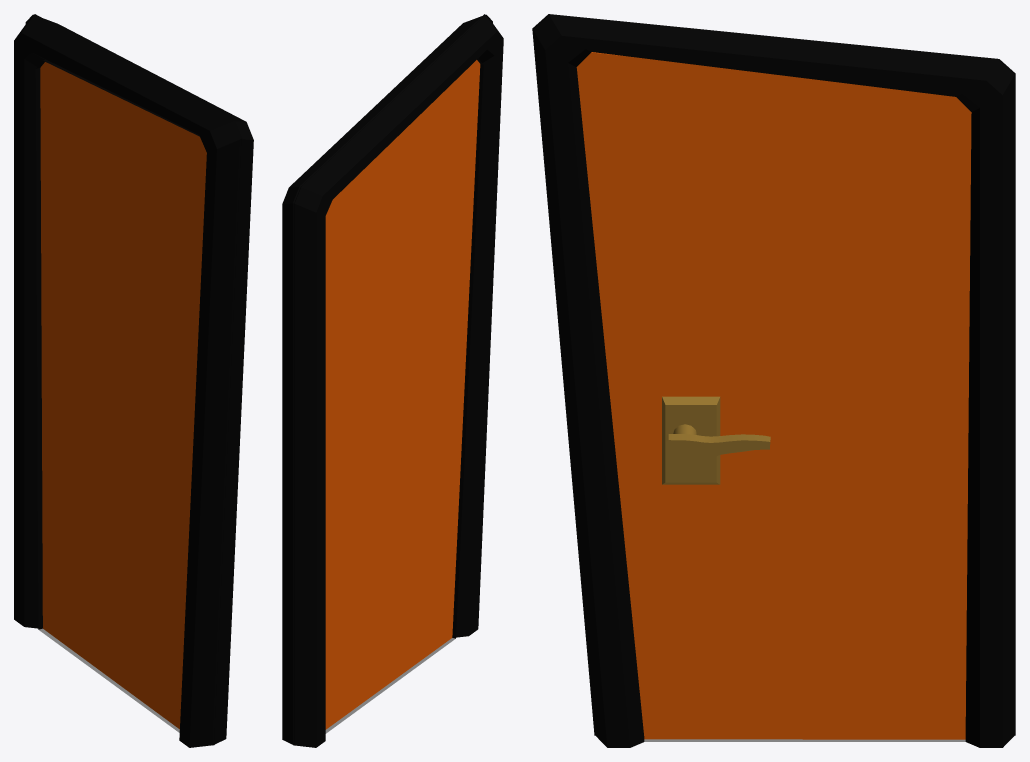
Rendered from One_Faced_Door.fbx.
3 renders of one model, left to right at view 1: azimuth 30°, elevation 25°; view 2: azimuth 150°, elevation 25°; view 3: azimuth 270°, elevation 25°, orthographic. The views are drawn at different scales.
Visible parts, largest first — view 1: hospital_scene.009, hospital_scene.005; view 2: hospital_scene.009, hospital_scene.005; view 3: hospital_scene.009, hospital_scene.005.
Boxes of the visible parts, bbox=[...] form: hospital_scene.009: bbox=[40, 62, 206, 729]; hospital_scene.005: bbox=[14, 14, 253, 747]; hospital_scene.009: bbox=[325, 60, 480, 729]; hospital_scene.005: bbox=[282, 14, 503, 747]; hospital_scene.009: bbox=[576, 52, 971, 739]; hospital_scene.005: bbox=[532, 14, 1015, 747].
Bounding box in the file's own units: 21.15 × 200 × 121.
